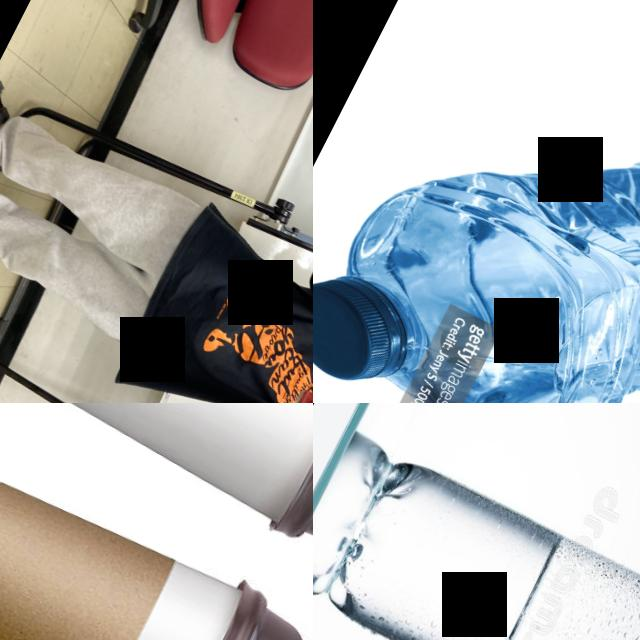bottle: (313, 0, 640, 403), (314, 442, 640, 640)
cup: (0, 404, 313, 640), (0, 403, 313, 573)
